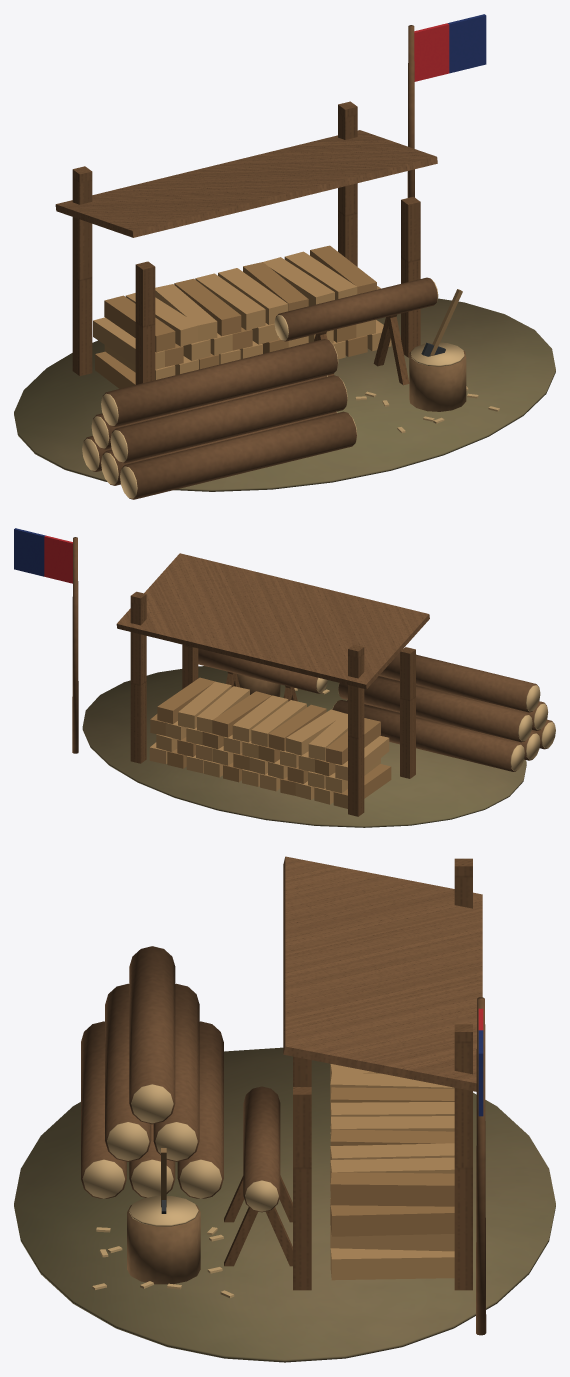
The model's file is lumbercamp_br.glb.
The picture shows the model from 3 angles, top to bottom: view 1: azimuth 30°, elevation 25°; view 2: azimuth 150°, elevation 25°; view 3: azimuth 270°, elevation 25°; orthographic projection. The views are drawn at different scales.
Parts seen in each view (by area): view 1: lumbercamp_br; view 2: lumbercamp_br; view 3: lumbercamp_br.
Boxes of the visible parts, <box> form: lumbercamp_br: <box>14,14,555,499</box>; lumbercamp_br: <box>14,528,555,827</box>; lumbercamp_br: <box>14,856,555,1362</box>.
Size of the model in its own units: 6.75 by 3.22 by 4.7.
Materials: 1 (1 with a texture image).
